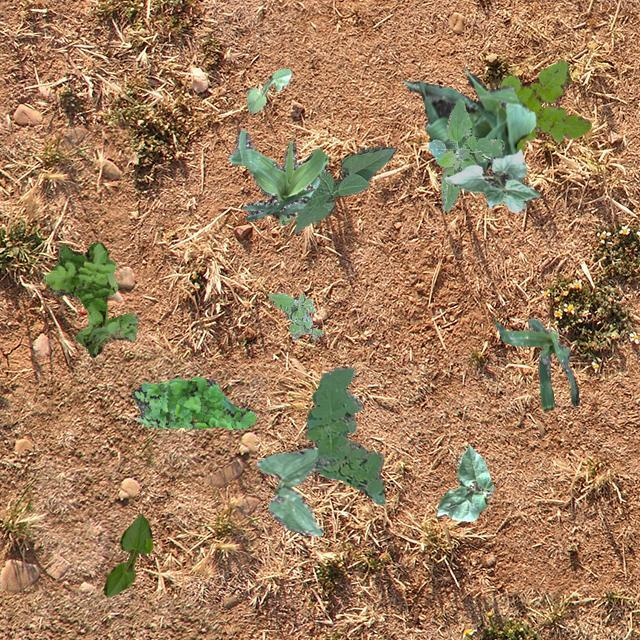crop: (402, 70, 536, 172), (228, 128, 329, 224), (294, 146, 394, 232), (494, 318, 578, 410), (444, 148, 540, 212), (255, 445, 322, 535), (436, 444, 494, 520), (102, 514, 152, 596), (246, 67, 290, 111)
weed: (306, 366, 384, 504), (44, 242, 138, 356), (428, 96, 503, 210), (498, 60, 590, 152), (130, 376, 256, 428), (268, 292, 322, 338)
